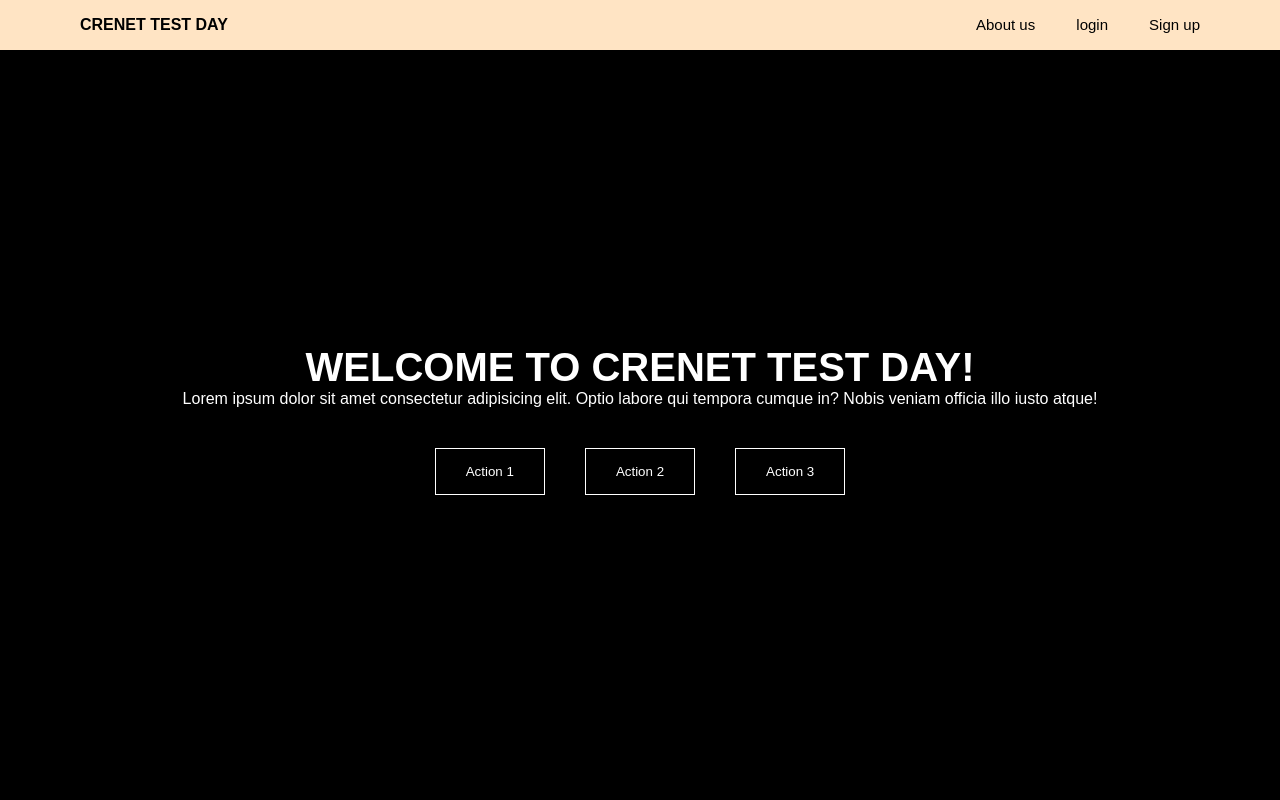
it: Home page › Button clicks should show snackbars › button 3 should show a message when clicked
Click the button with class "btn--tertiary" at {"x": 790, "y": 472}, box [735,448,845,495]
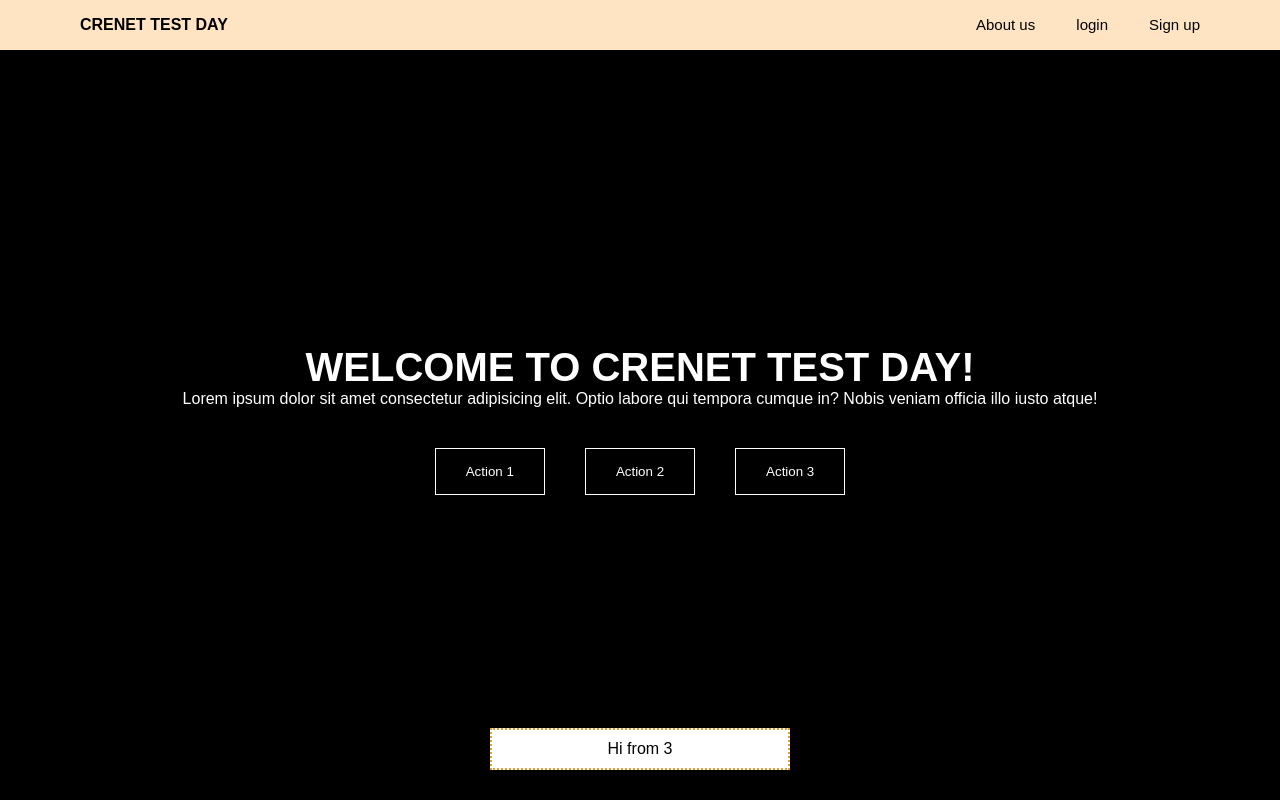
expect the text with id "snackbar" reads "Hi from 3": met, box [490,728,790,770]
